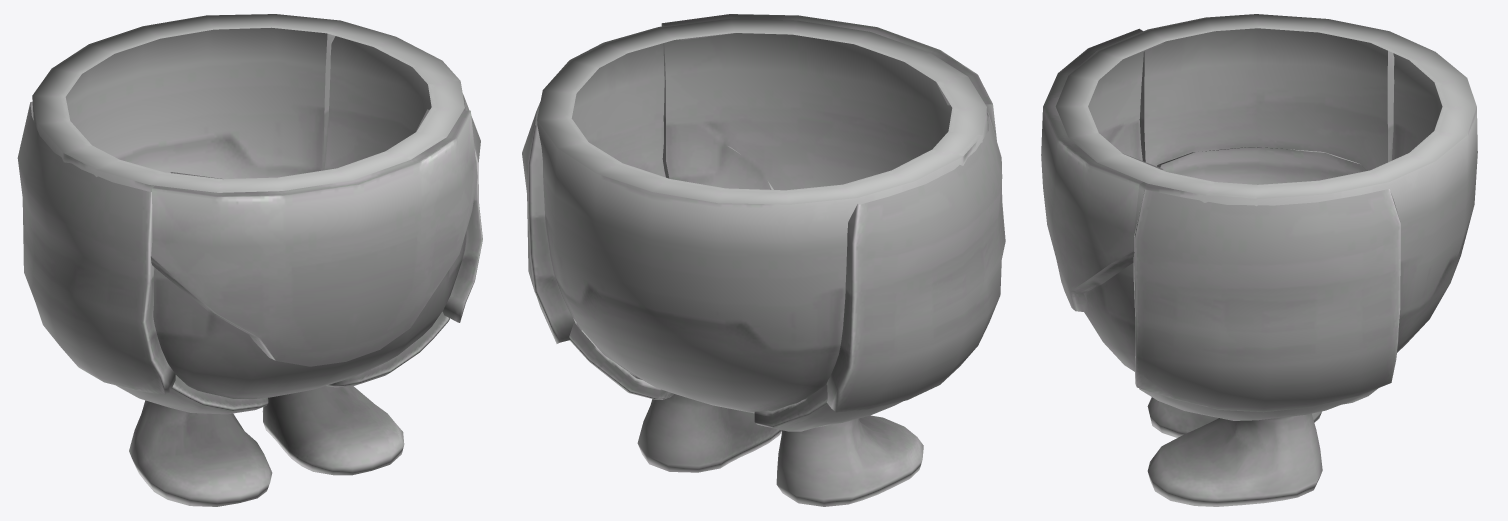
The model's file is CH_GordonFreeman_Variant01_Team_Bottom.fbx.
3 views of the same model, side by side, from view 1: azimuth 30°, elevation 25°; view 2: azimuth 150°, elevation 25°; view 3: azimuth 270°, elevation 25° (orthographic). The views are drawn at different scales.
Parts seen in each view (by area): view 1: CH_GordonFreeman_Variant01_LW; view 2: CH_GordonFreeman_Variant01_LW; view 3: CH_GordonFreeman_Variant01_LW.
Part boxes in pixels (x1=…): CH_GordonFreeman_Variant01_LW: x1=17, y1=14, x2=482, y2=506; CH_GordonFreeman_Variant01_LW: x1=522, y1=14, x2=1005, y2=506; CH_GordonFreeman_Variant01_LW: x1=1041, y1=14, x2=1477, y2=506.
Bounding box in the file's own units: 1.08 × 0.8593 × 1.03.
